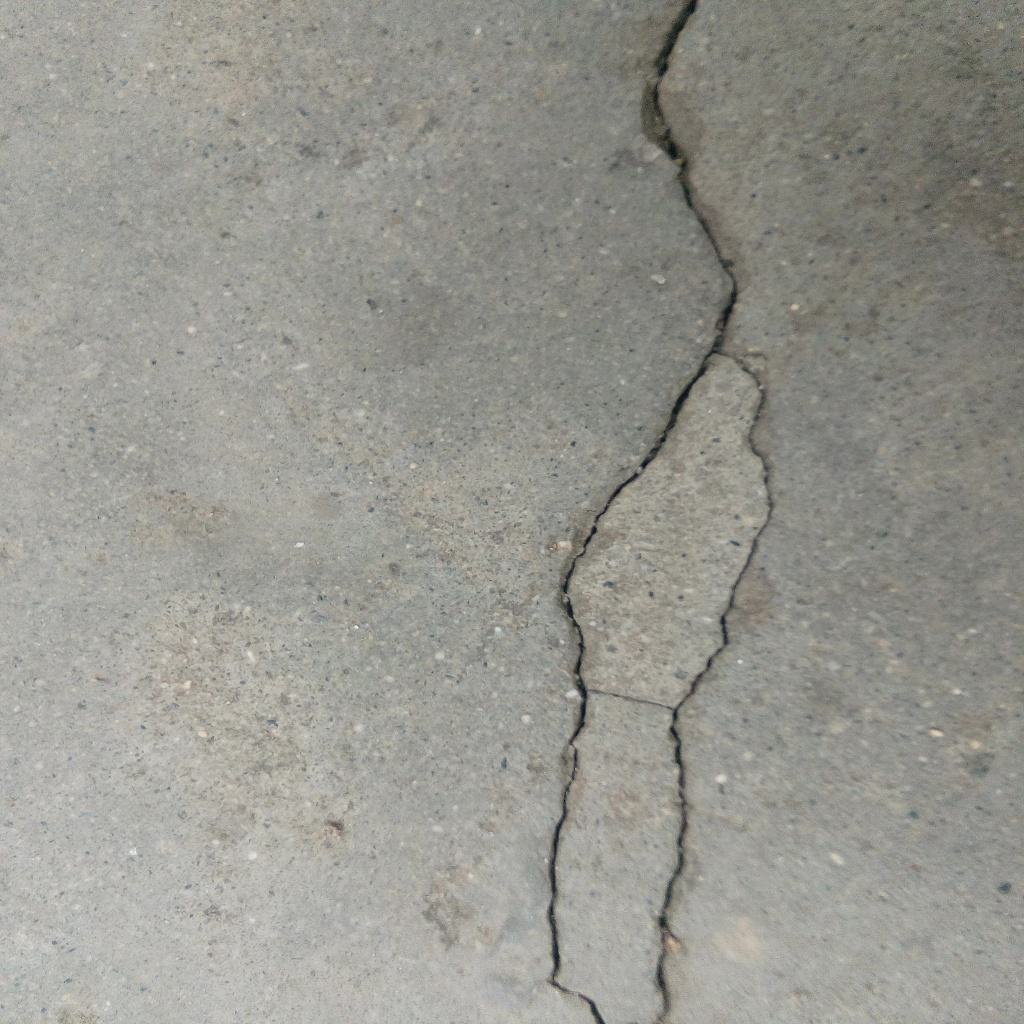Crack: (546, 1, 774, 1024)
